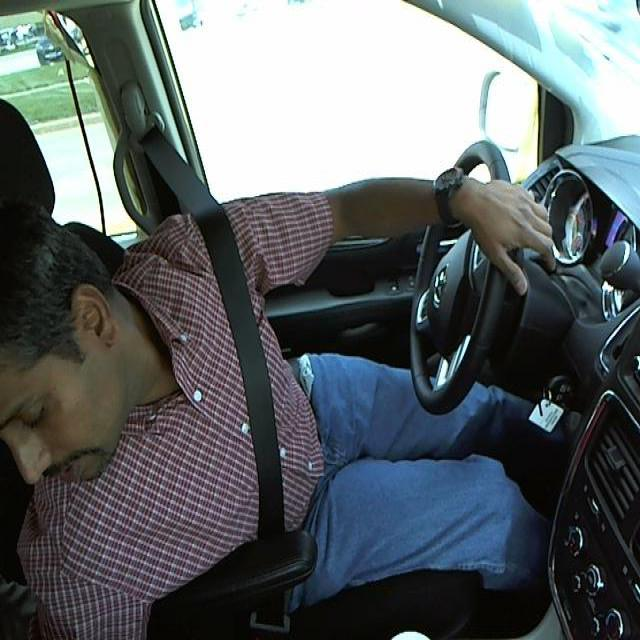seatbelt: (184, 228, 322, 589)
